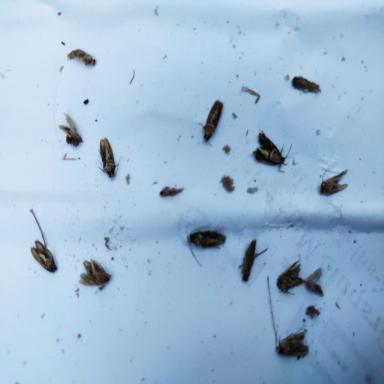pbw: (250, 127, 294, 172), (187, 222, 226, 267), (197, 97, 223, 146), (97, 137, 123, 179), (274, 326, 308, 358), (277, 259, 305, 294), (320, 164, 350, 196), (29, 240, 59, 272), (80, 257, 109, 287), (241, 236, 257, 280), (291, 73, 322, 94)
